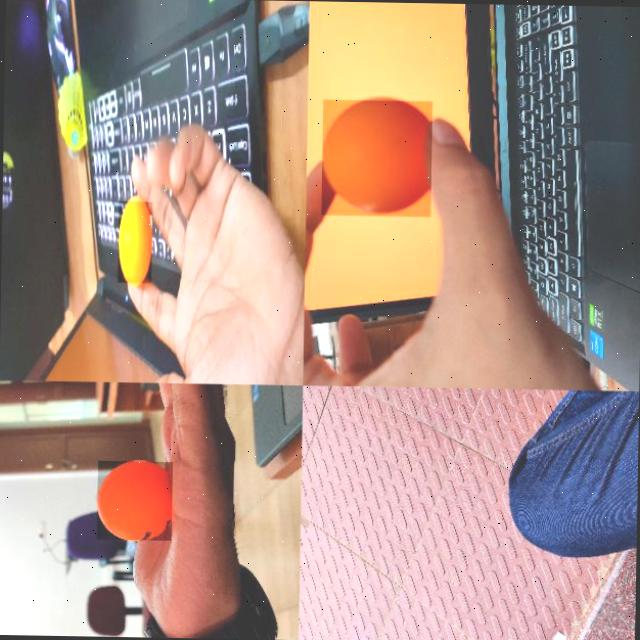ping-pong-ball: (321, 98, 433, 216), (96, 458, 174, 540), (117, 198, 153, 282)
